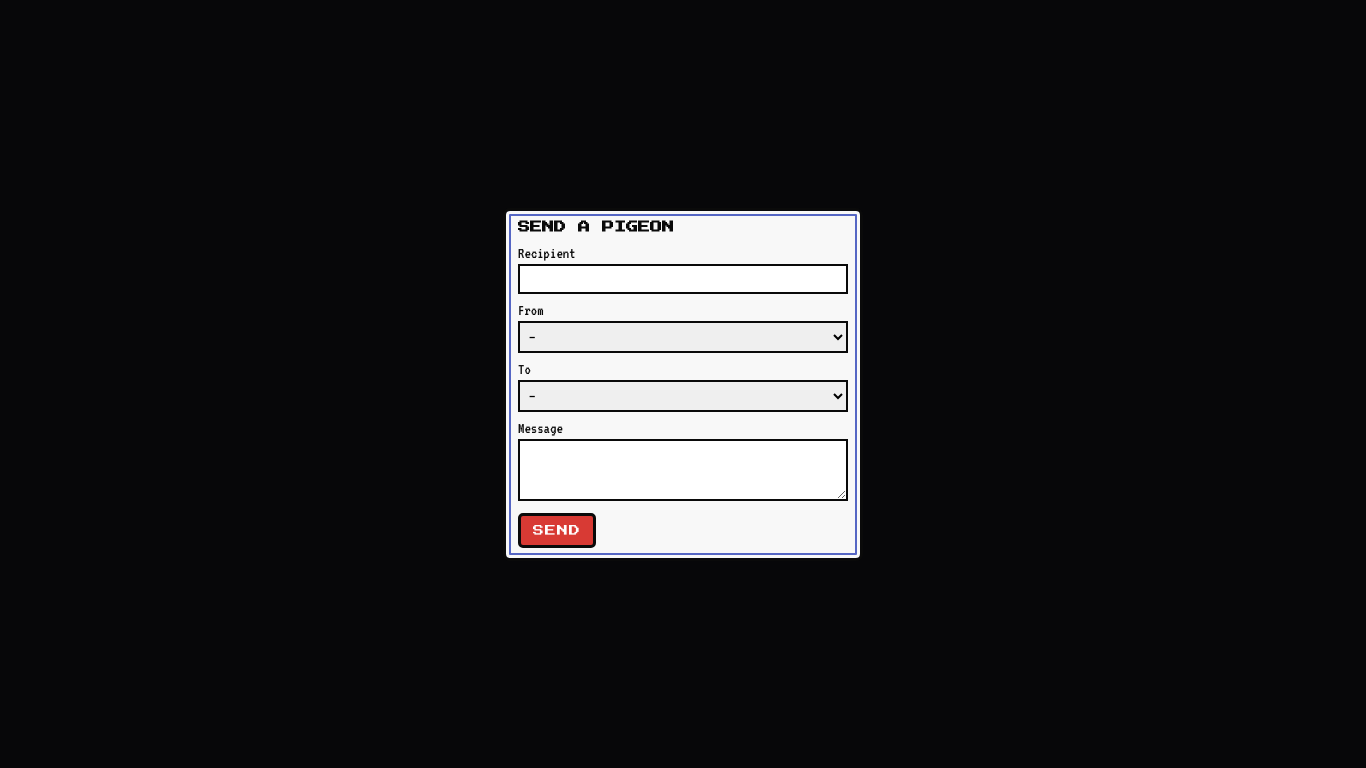
Test: a 422 with array detail shows a message without crashing
Type "alex" into the field labelled "Recipient" at (683, 278), box [518,264,848,294]
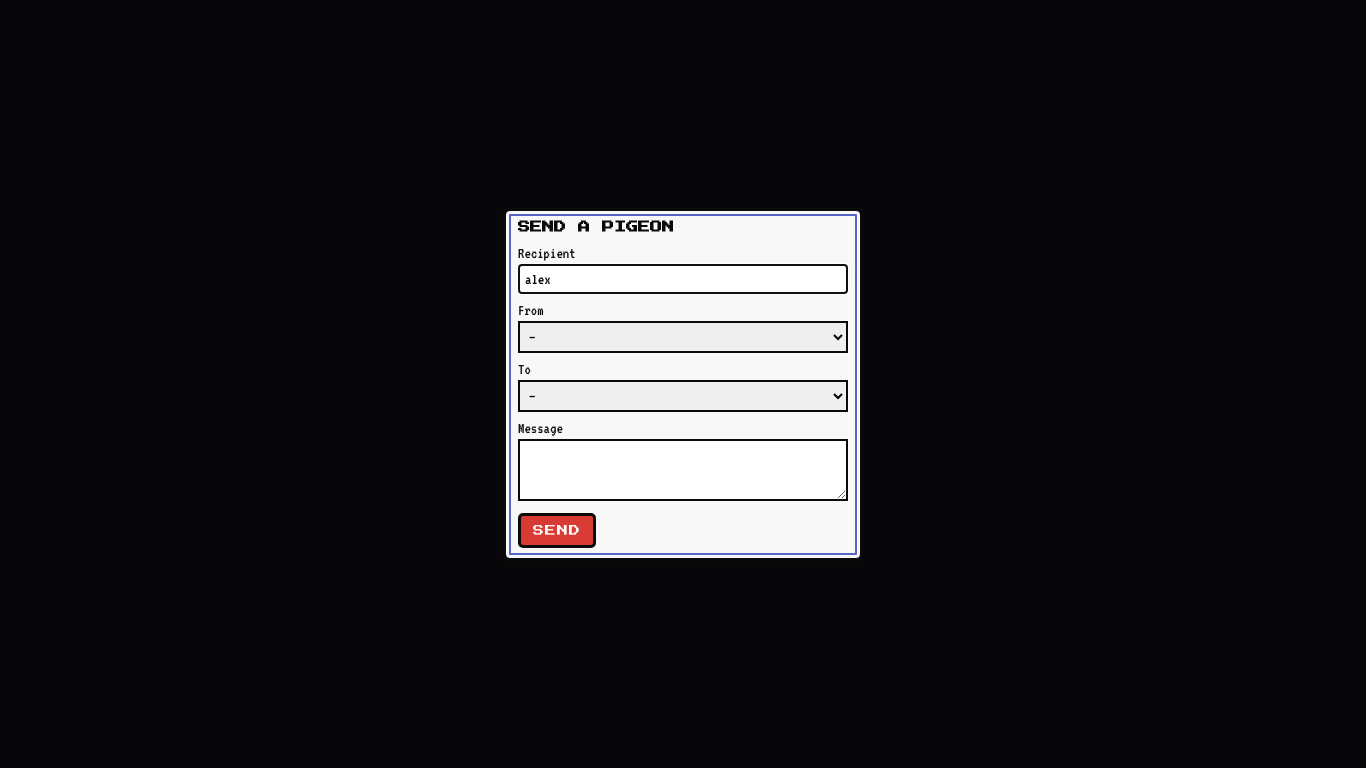
Select "New York" in the dropdown labelled "From" at (683, 336), box [518,320,848,352]
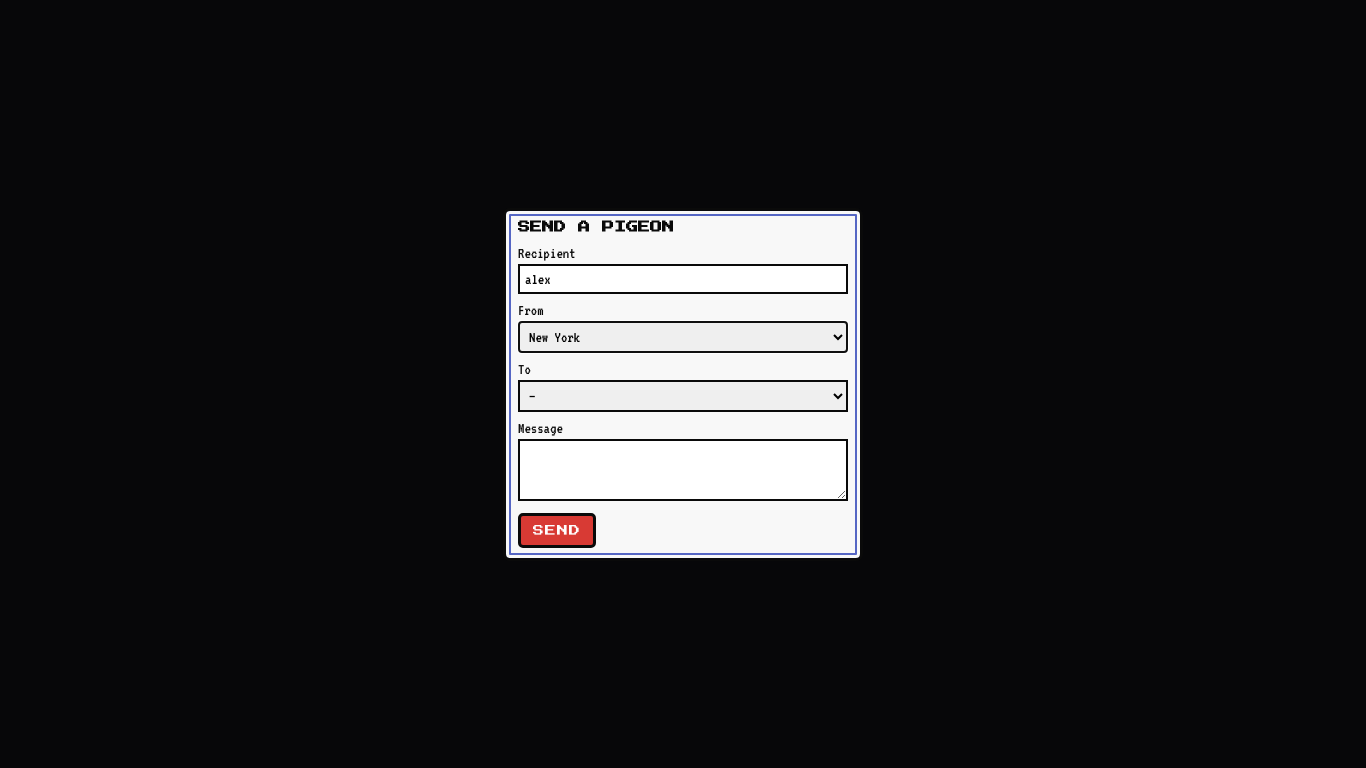
Select "Tokyo" in the dropdown labelled "To" at (683, 396), box [518,380,848,412]
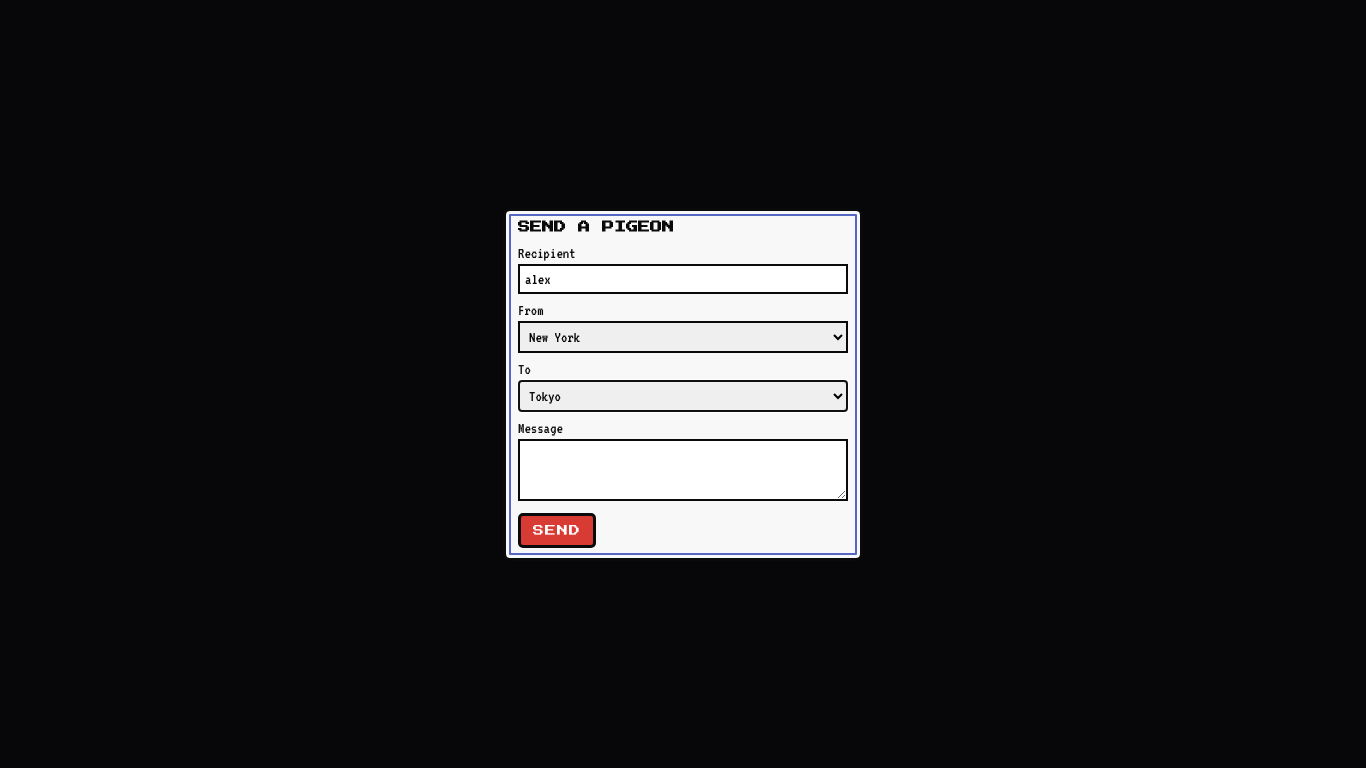
Type "wish you were here" into the text box labelled "Message" at (683, 470), box [518,438,848,500]
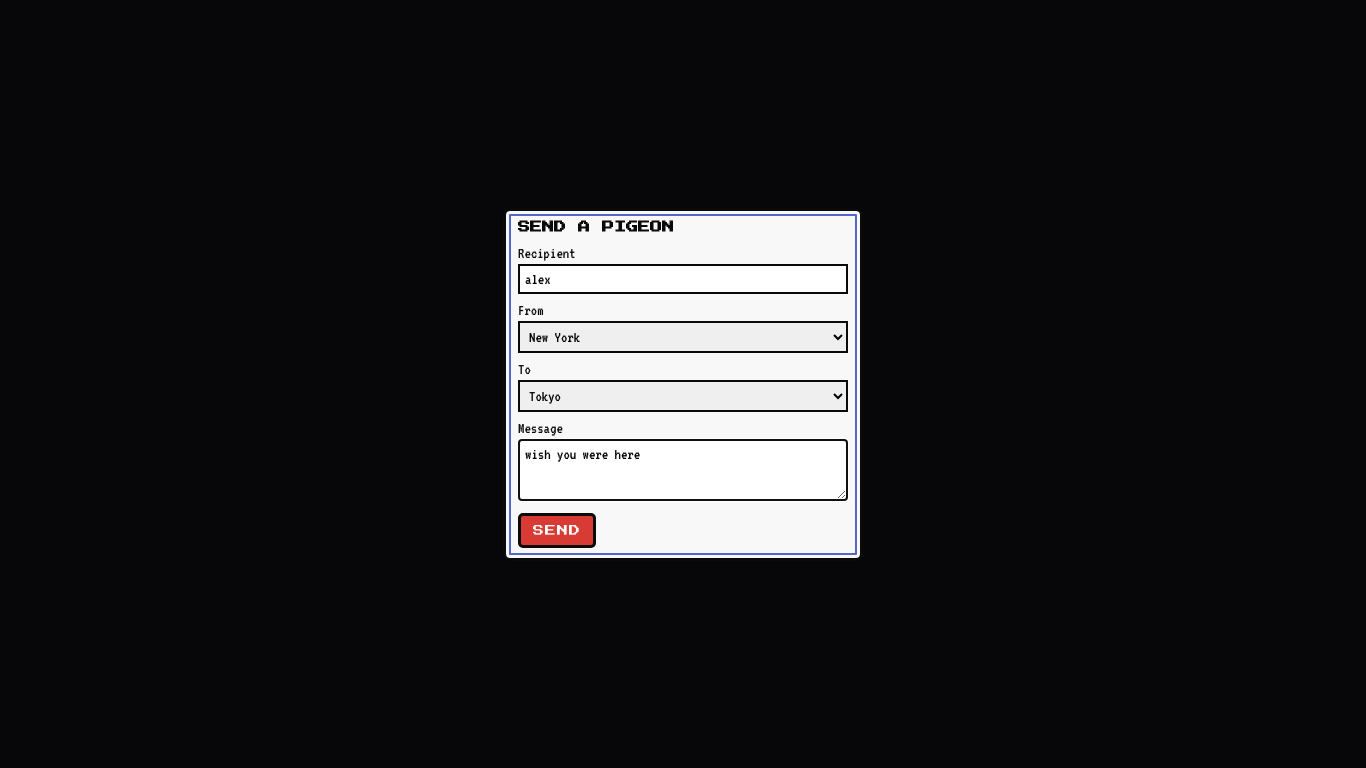
Click the button "SEND" at (557, 530), box [518,512,596,548]
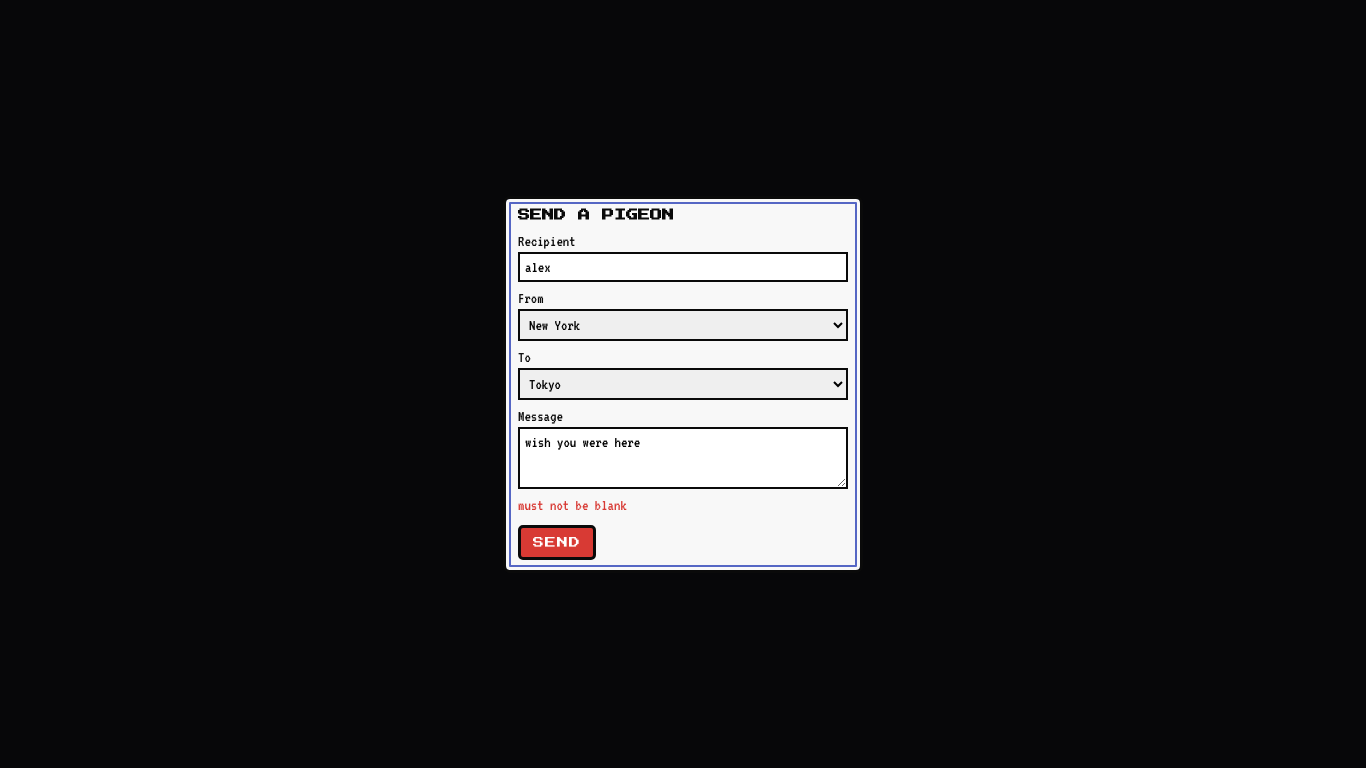
Expected: the text "must not be blank" is shown, [518,496,627,512]
